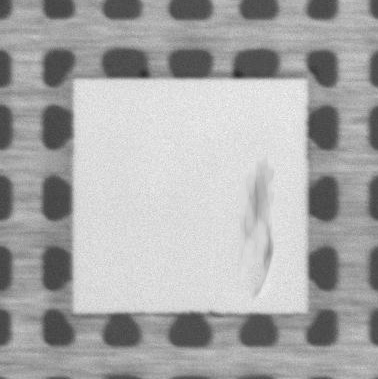DIE_INK: (234, 127, 276, 302)
